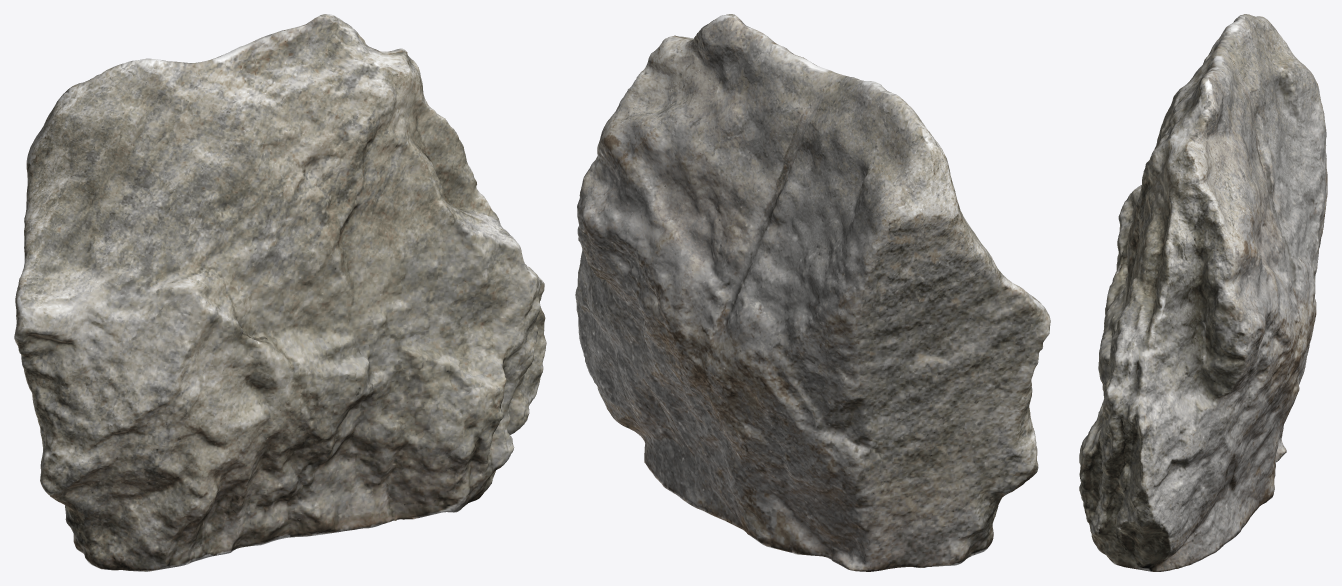
File: sparse2.glb
The picture shows the model from 3 angles, left to right: view 1: azimuth 30°, elevation 25°; view 2: azimuth 150°, elevation 25°; view 3: azimuth 270°, elevation 25°; orthographic projection. The views are drawn at different scales.
Parts seen in each view (by area): view 1: Node; view 2: Node; view 3: Node.
Part boxes in pixels (x1,y1,x2,y2): Node: (14, 14, 546, 571); Node: (575, 14, 1050, 571); Node: (1079, 14, 1327, 571).
Bounding box in the file's own units: 3.96 × 3.67 × 1.84.
1 material, 1 textured.
